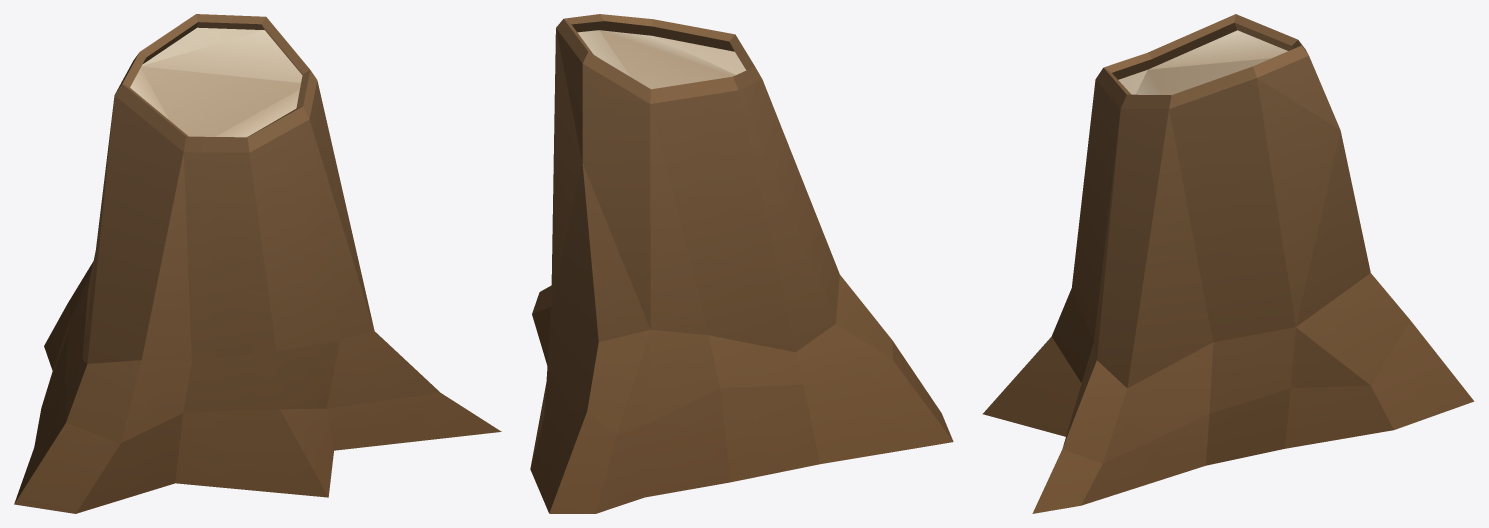
Rendered from stump_mammoth.fbx.
3 views of the same model, side by side, from view 1: azimuth 30°, elevation 25°; view 2: azimuth 150°, elevation 25°; view 3: azimuth 270°, elevation 25° (orthographic). The views are drawn at different scales.
Parts seen in each view (by area): view 1: stump_mammoth; view 2: stump_mammoth; view 3: stump_mammoth.
Part boxes in pixels (<box>): stump_mammoth: <box>14,14,501,513</box>; stump_mammoth: <box>530,14,953,513</box>; stump_mammoth: <box>982,14,1474,513</box>.
Bounding box in the file's own units: 3 × 2.4 × 2.8.
1 material, 1 textured.
